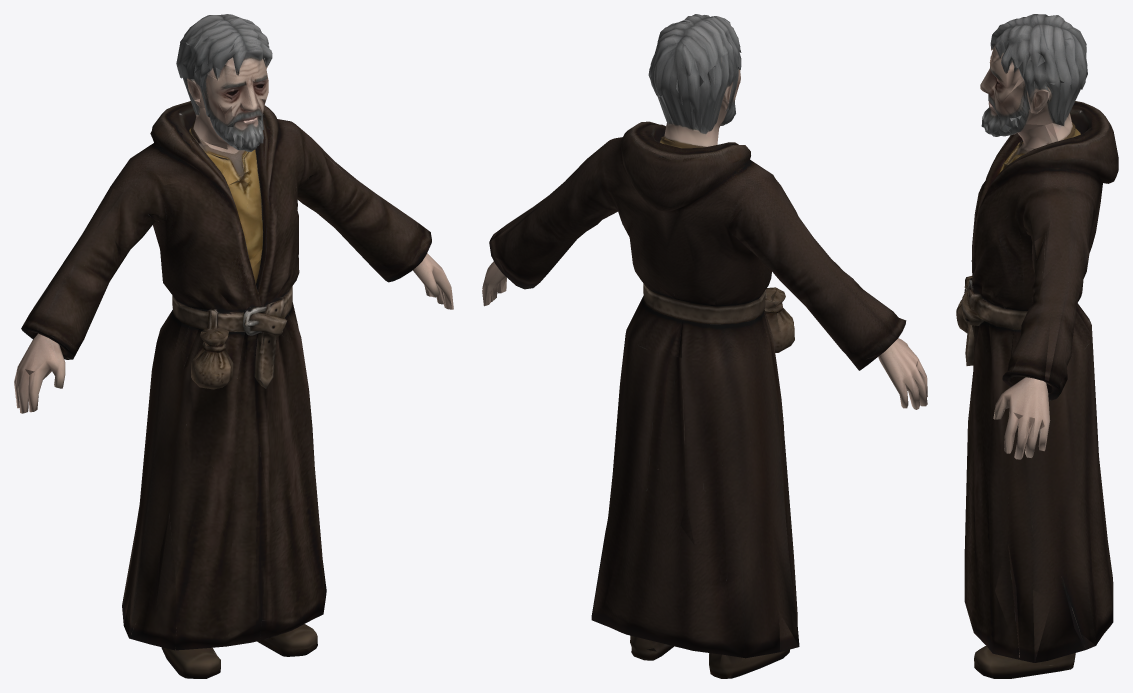
3 views of the same model, side by side, from view 1: azimuth 30°, elevation 25°; view 2: azimuth 150°, elevation 25°; view 3: azimuth 270°, elevation 25° (orthographic).
Parts seen in each view (by area): view 1: Mesh_0; view 2: Mesh_0; view 3: Mesh_0.
Part boxes in pixels (box(x1,y1,x2,y2)): Mesh_0: box(14, 14, 453, 678); Mesh_0: box(482, 14, 927, 678); Mesh_0: box(956, 14, 1118, 678).
Bounding box in the file's own units: 136 × 190 × 44.26.
Materials: 1 (1 with a texture image).
